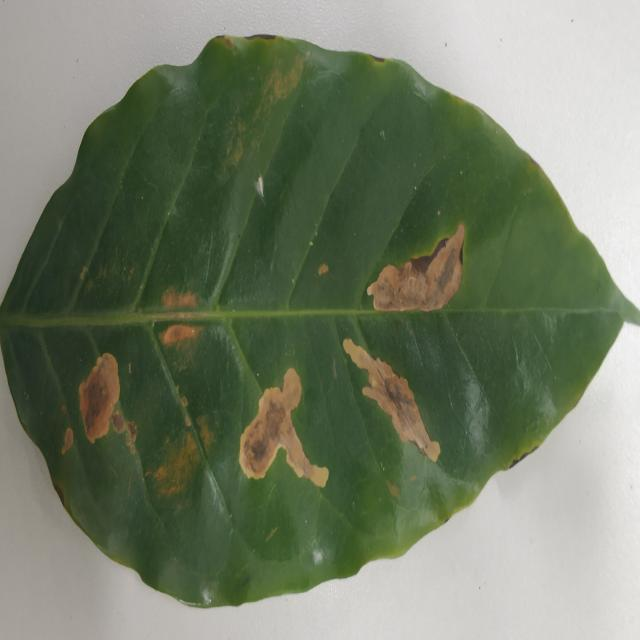Plaga-Minador: (0, 36, 640, 611)
